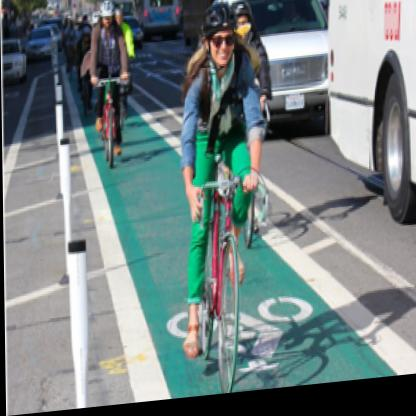With Helmet: (196, 3, 242, 69)
